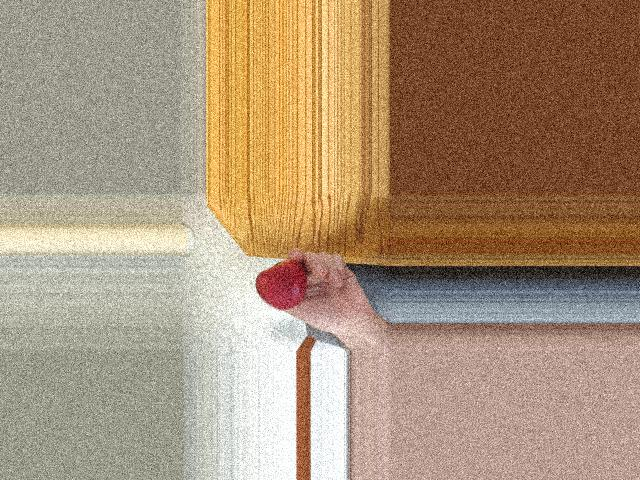apple: (253, 258, 310, 311)
